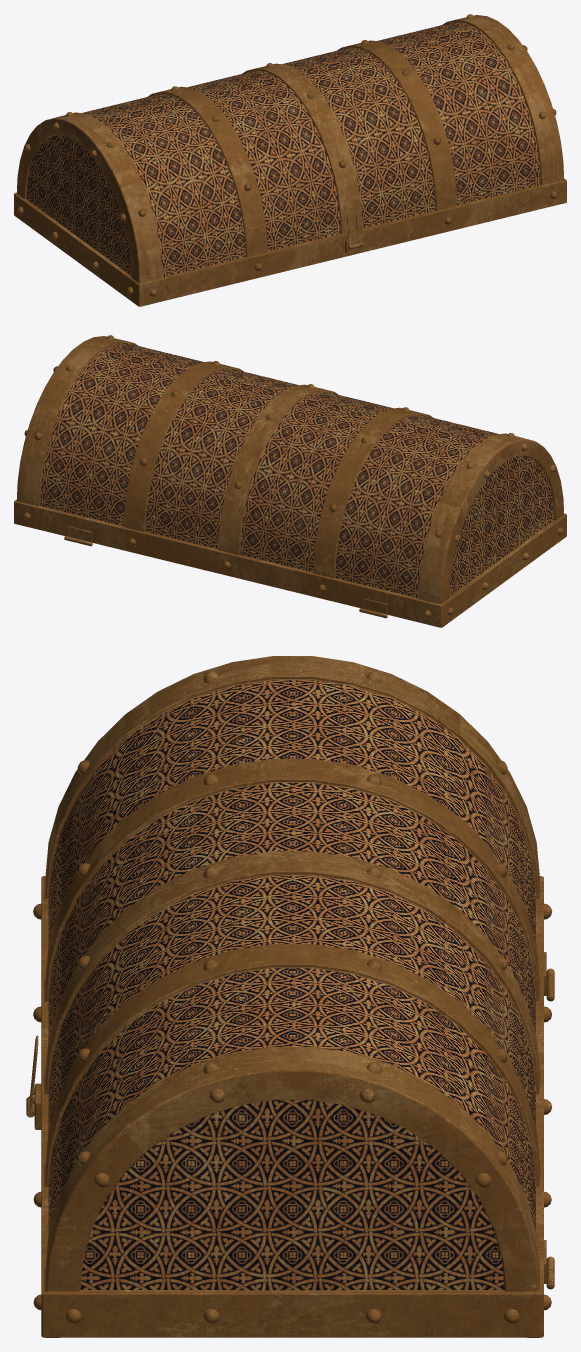
Rendered from chestB.FBX.
3 renders of one model, top to bottom at view 1: azimuth 30°, elevation 25°; view 2: azimuth 150°, elevation 25°; view 3: azimuth 270°, elevation 25°, orthographic. The views are drawn at different scales.
Parts seen in each view (by area): view 1: ChestLid; view 2: ChestLid; view 3: ChestLid.
Part boxes in pixels (left/top/right/bottom): ChestLid: left=14, top=14, right=566, bottom=306; ChestLid: left=14, top=335, right=566, bottom=627; ChestLid: left=26, top=656, right=554, bottom=1337.
Size of the model in its own units: 124 by 36.89 by 65.14.
Materials: 2 (2 with a texture image).
